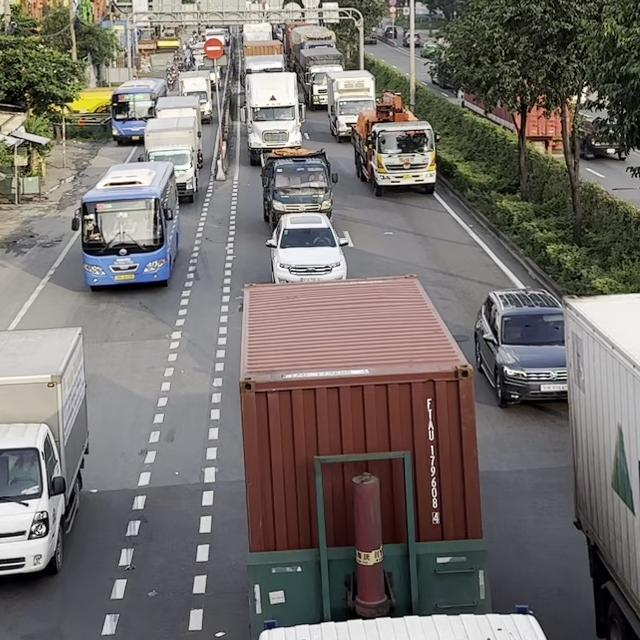bus: (70, 160, 180, 290), (110, 77, 167, 145)
car: (473, 286, 568, 407), (265, 211, 351, 284)
truck: (234, 271, 548, 640), (561, 290, 639, 639), (0, 325, 89, 578), (350, 92, 439, 196), (260, 146, 338, 230), (241, 70, 306, 165), (137, 117, 201, 204), (325, 69, 376, 143), (177, 70, 213, 123)
